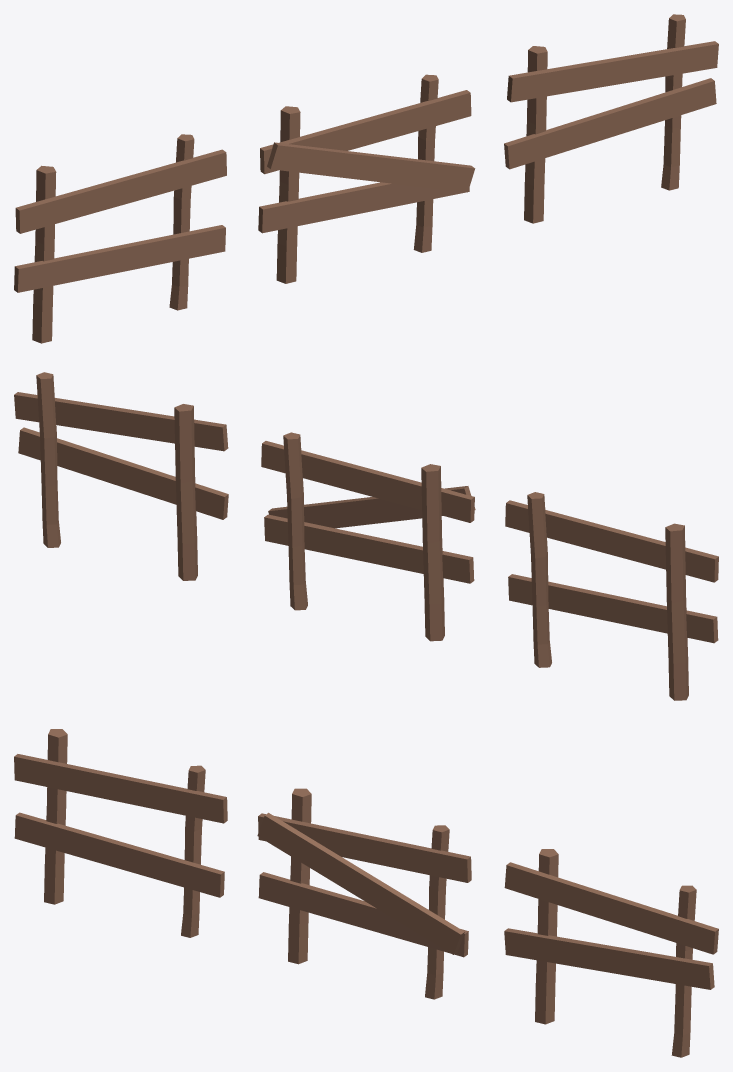
The model's file is Village_Extras_Fences_v1.fbx.
3 renders of one model, top to bottom at view 1: azimuth 30°, elevation 25°; view 2: azimuth 150°, elevation 25°; view 3: azimuth 330°, elevation 25°, orthographic.
Parts seen in each view (by area): view 1: Cube.004, Cube.001, Farm_Hayrack_1.004; view 2: Cube.004, Cube.001, Farm_Hayrack_1.004; view 3: Cube.004, Cube.001, Farm_Hayrack_1.004.
Boxes of the visible parts, x1,y1,x2,y2 form: Cube.004: (258,74,475,283); Cube.001: (14,134,226,343); Farm_Hayrack_1.004: (504,14,718,223); Cube.004: (261,432,475,641); Cube.001: (505,492,718,700); Farm_Hayrack_1.004: (14,372,228,580); Cube.004: (257,788,471,999); Cube.001: (14,729,227,937); Farm_Hayrack_1.004: (504,849,718,1057).
Size of the model in its own units: 687 by 161 by 29.83.
